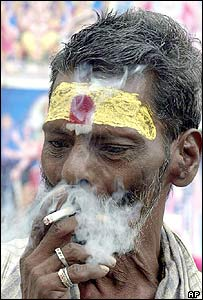cigarette: (43, 203, 82, 231)
